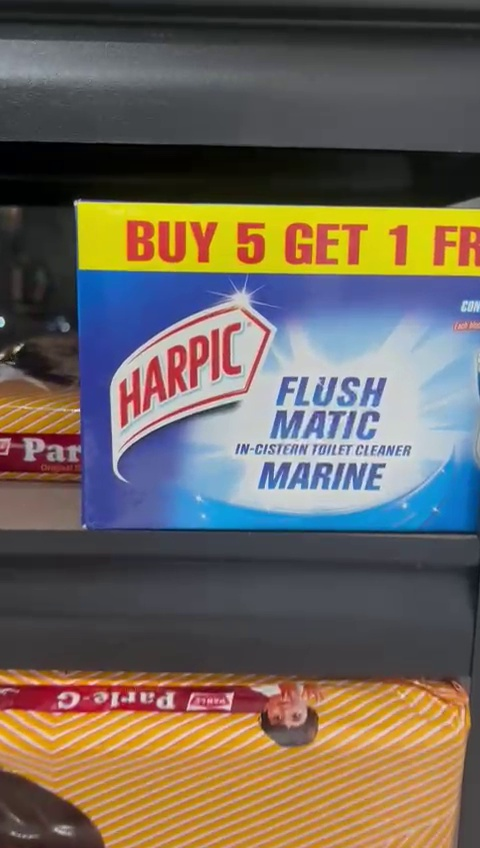Harpic: (76, 195, 480, 541)
